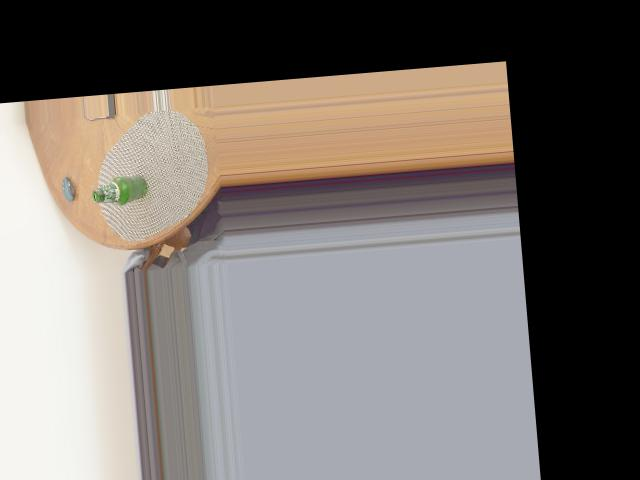beer: (90, 172, 148, 208)
